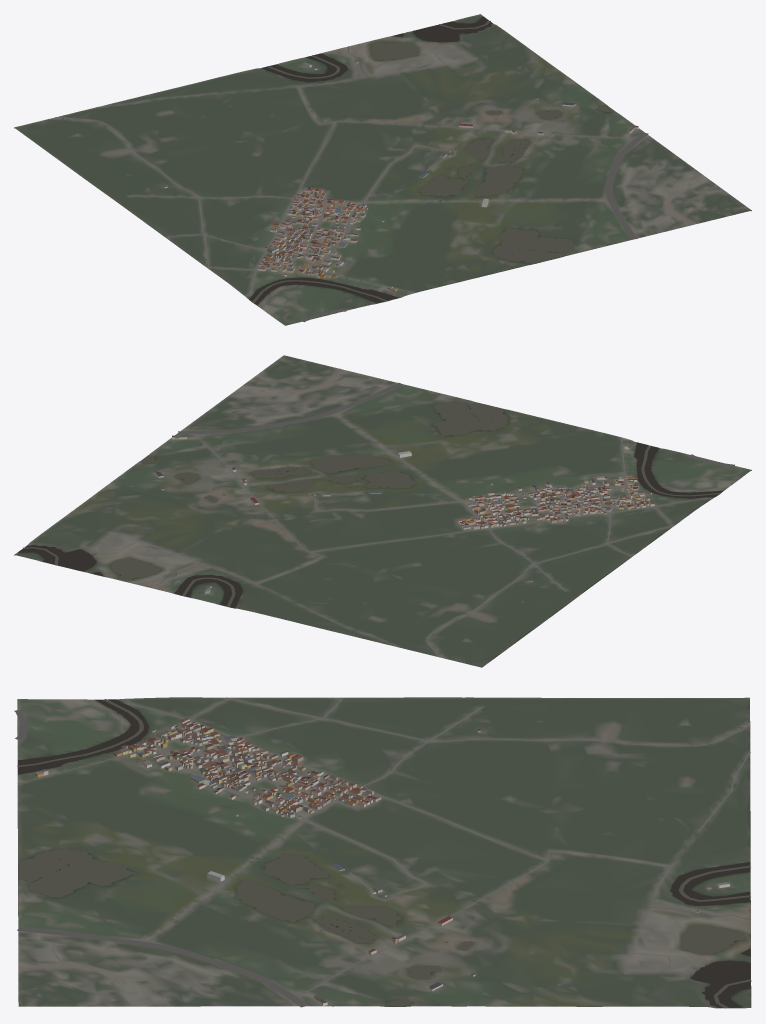
3 renders of one model, top to bottom at view 1: azimuth 30°, elevation 25°; view 2: azimuth 150°, elevation 25°; view 3: azimuth 270°, elevation 25°, orthographic. The views are drawn at different scales.
Parts seen in each view (by area): view 1: ground, water, buildings, roads; view 2: ground, water, buildings, roads; view 3: ground, water, buildings, roads.
Part boxes in pixels (<box>): ground: <box>14,14,751,325</box>; water: <box>249,16,614,304</box>; buildings: <box>163,61,638,291</box>; roads: <box>55,46,698,322</box>; ground: <box>14,355,751,667</box>; water: <box>18,401,722,608</box>; buildings: <box>154,435,654,593</box>; roads: <box>102,368,734,657</box>; ground: <box>17,697,751,1008</box>; water: <box>17,699,751,1008</box>; buildings: <box>34,718,729,1005</box>; roads: <box>14,697,750,1007</box>.
Size of the model in its own units: 1405 by 18.25 by 1412.
